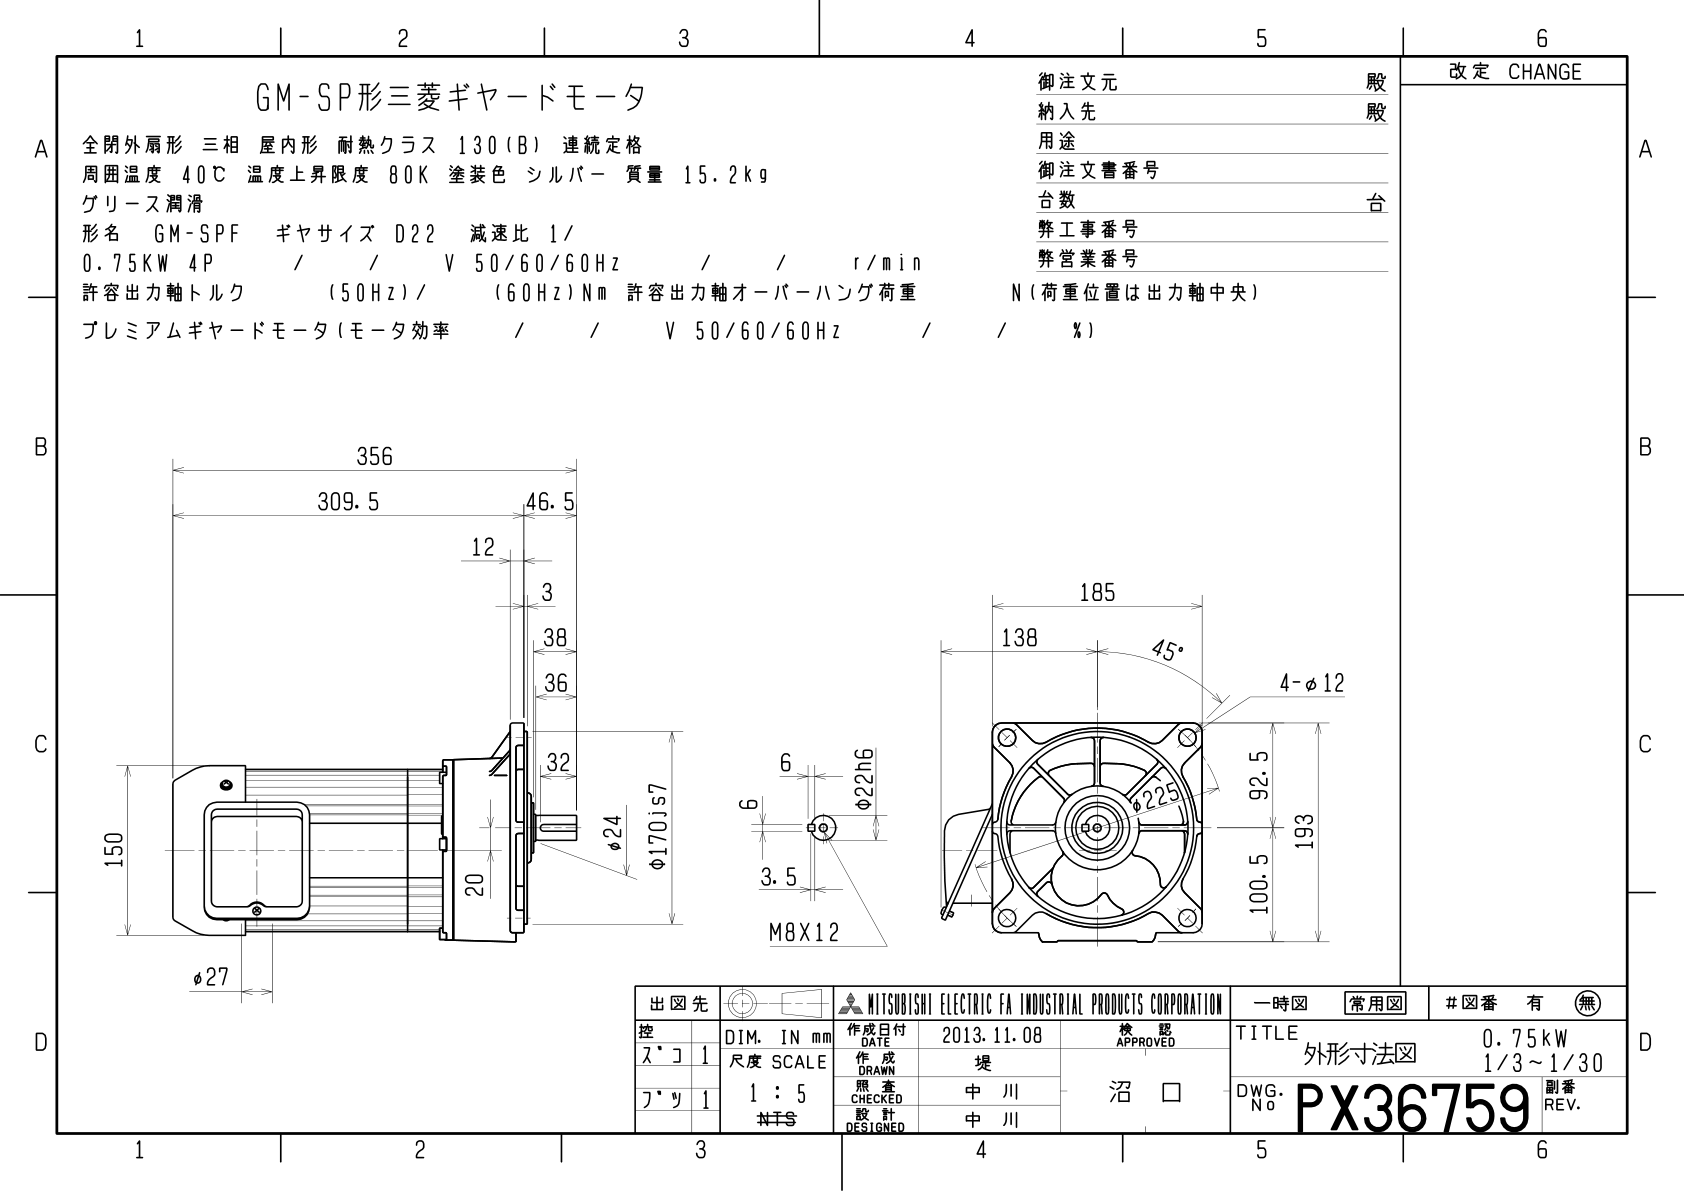GM_SP_屋内_三相_フランジ: (79, 403, 1403, 989)
